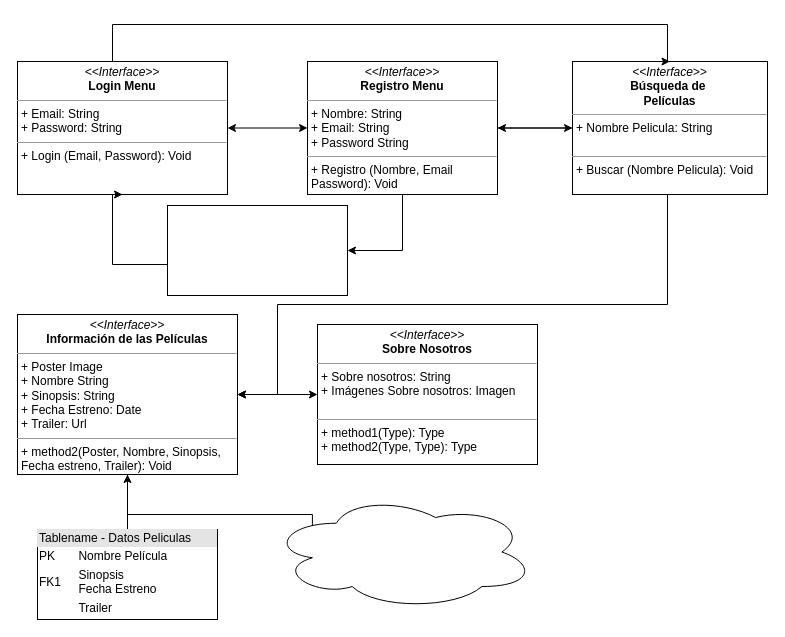
This 785x637 diagram has some shape labels left out. Each missing label, with the box of its shape:
Tablename - Datos Usuarios PK Nombre FK1 Email Password: (166, 204, 348, 296)
«Annotation» Link Peliculas (Api Externa - Youtube): (269, 494, 535, 610)
